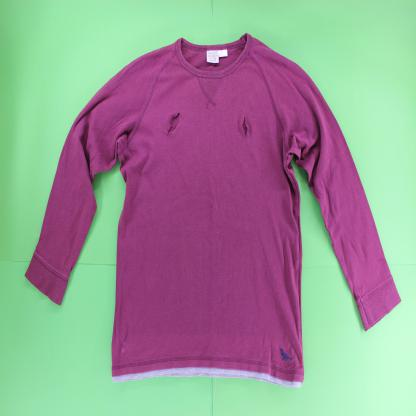hole: (163, 108, 181, 143), (241, 113, 251, 140)
